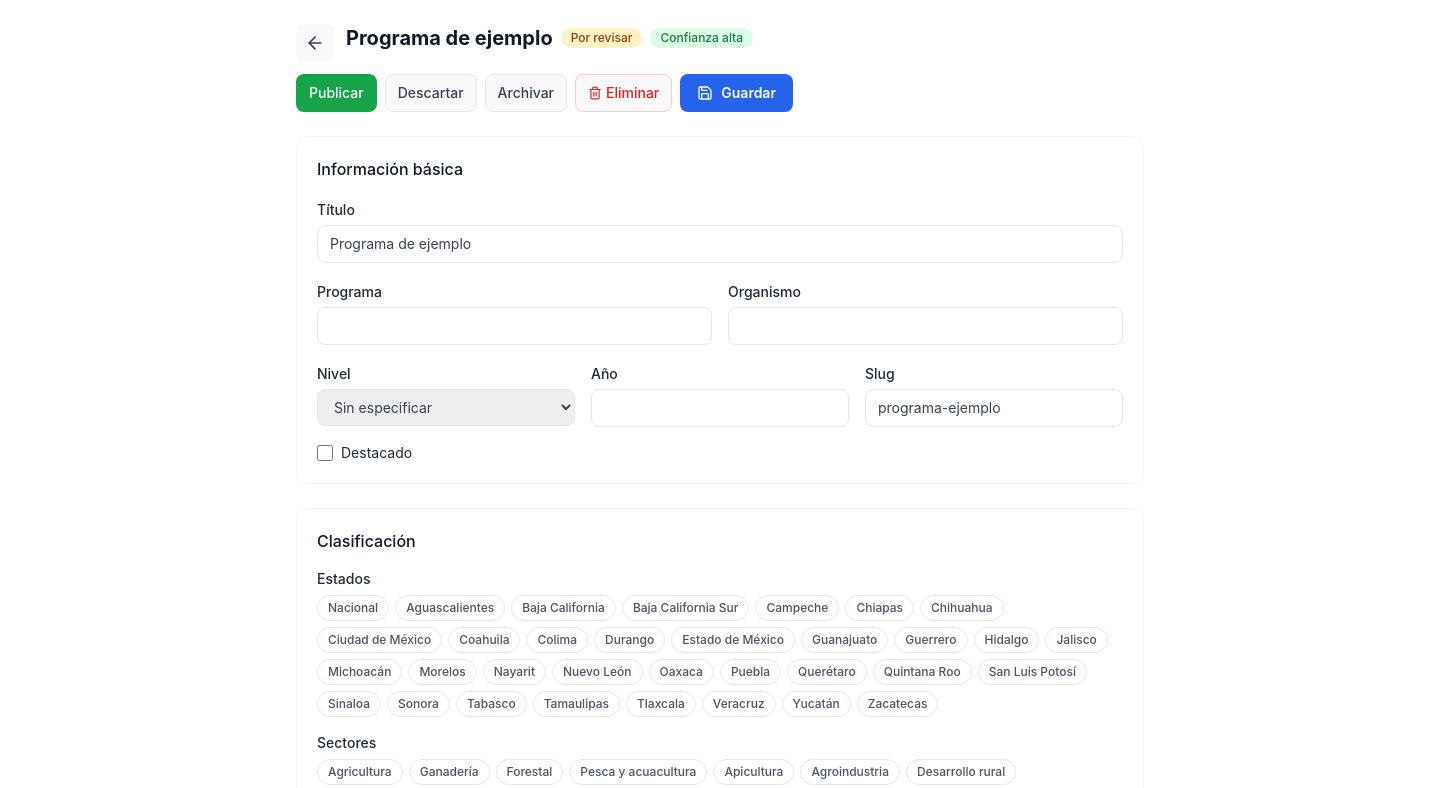
Test: a draft apoyo can be published via the action bar
The image size is (1440, 788).
Expected: the heading "Programa de ejemplo" is shown, [346,24,553,52]
Click the button "Publicar": (336, 93) [296,74,377,112]
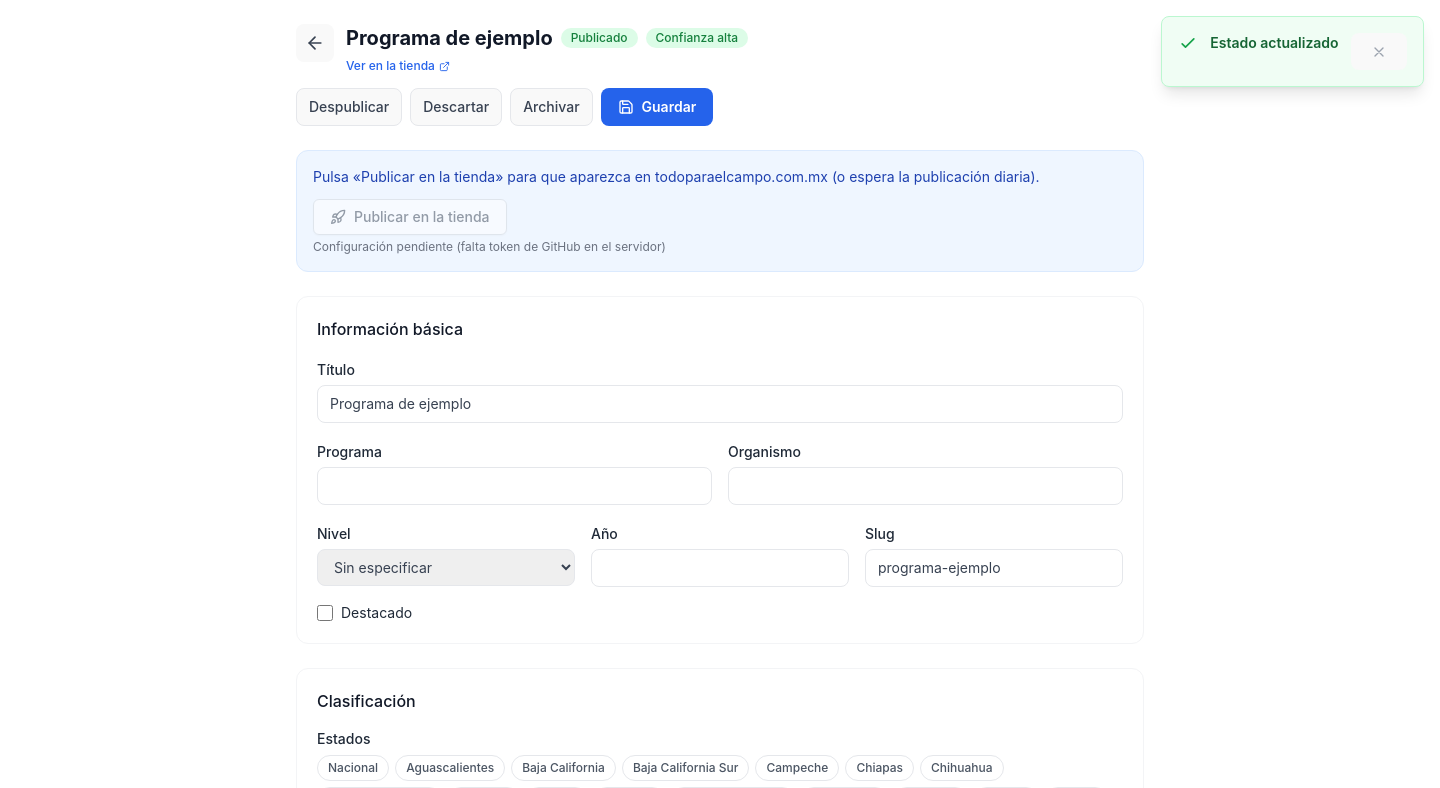
Expected: the link "Ver en la tienda" is shown, [346,58,450,74]
